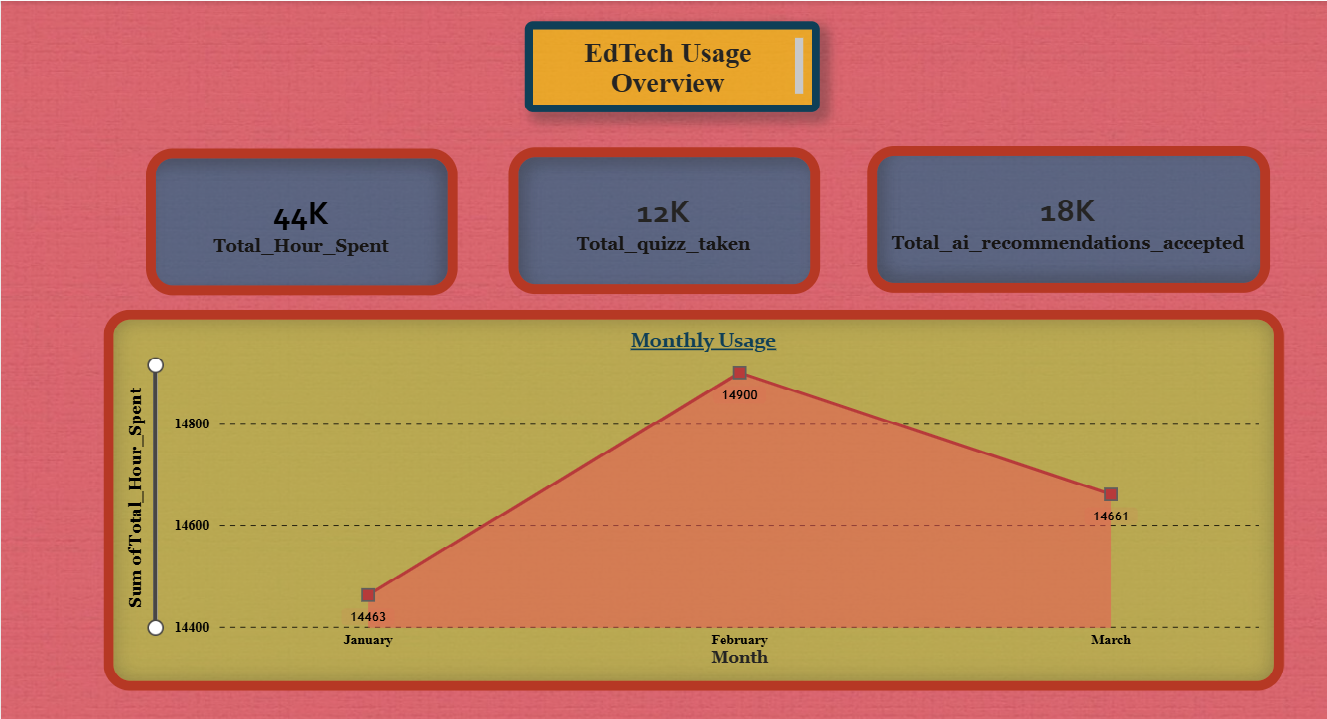

The page's visual inventory and layout, read from the dashboard file:
{"tool":"powerbi","page":{"name":"EdTech_Usage_Overview","canvas":[1280,720],"ordinal":0},"visuals":[{"type":"textbox","box":[505.5,20.5,284.7,90.5],"z":0},{"type":"card","fields":{"Values":["Sum(edtech_usage.hours_spent)"]},"box":[139.9,147.2,300.4,146],"z":1000},{"type":"card","fields":{"Values":["Sum(edtech_usage.quizzes_taken)"]},"box":[489.8,146,300.4,146],"z":2000},{"type":"card","fields":{"Values":["Sum(edtech_usage.ai_recommendations_accepted)"]},"box":[836.1,144.8,388.5,146],"z":3000},{"type":"lineChart","title":"Monthly Usage","fields":{"Category":["edtech_usage.month.Variation.Date Hierarchy.Month"],"Y":["Sum(edtech_usage.Total_Hour_Spent)"]},"box":[98.9,307.6,1138.9,378.8],"z":4000}]}

Visuals, with their boxes in screenshot pixels (x1, y1, x2, y2):
textbox: box(550, 24, 830, 113)
card - Sum(edtech_usage.hours_spent): box(190, 148, 485, 292)
card - Sum(edtech_usage.quizzes_taken): box(534, 147, 830, 291)
card - Sum(edtech_usage.ai_recommendations_accepted): box(875, 146, 1257, 290)
"Monthly Usage" lineChart: box(149, 306, 1270, 679)
